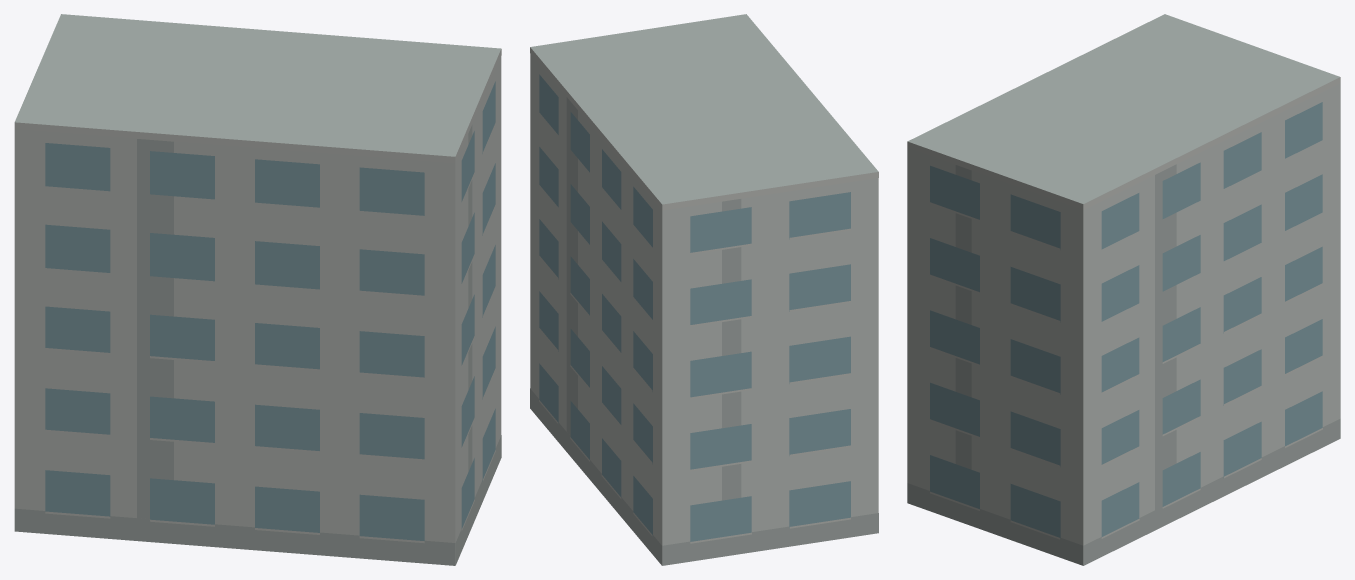
The model's file is survey-upis-32883519.glb.
The picture shows the model from 3 angles, left to right: view 1: azimuth 30°, elevation 25°; view 2: azimuth 150°, elevation 25°; view 3: azimuth 270°, elevation 25°; orthographic projection. The views are drawn at different scales.
Visible parts, largest first — view 1: survey-upis-32883519.tmp; view 2: survey-upis-32883519.tmp; view 3: survey-upis-32883519.tmp.
Part boxes in pixels (<box>): survey-upis-32883519.tmp: <box>14,14,501,565</box>; survey-upis-32883519.tmp: <box>530,14,878,565</box>; survey-upis-32883519.tmp: <box>907,14,1340,565</box>.
Size of the model in its own units: 16.25 by 14.4 by 15.63.
